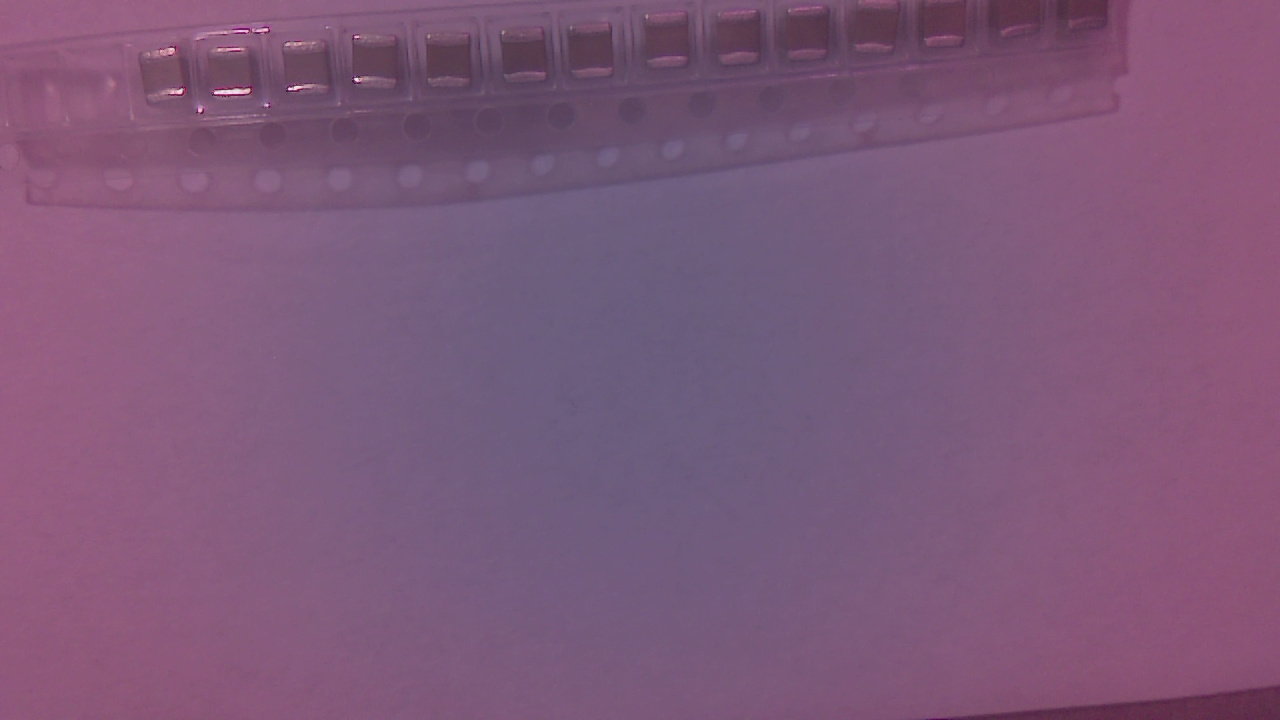Condensator: (503, 28, 556, 89), (646, 14, 699, 75), (353, 35, 406, 94), (428, 33, 480, 93), (145, 51, 194, 112), (287, 45, 342, 99), (570, 28, 622, 85), (856, 4, 908, 61), (211, 49, 263, 104), (790, 8, 837, 68), (722, 11, 768, 70)
